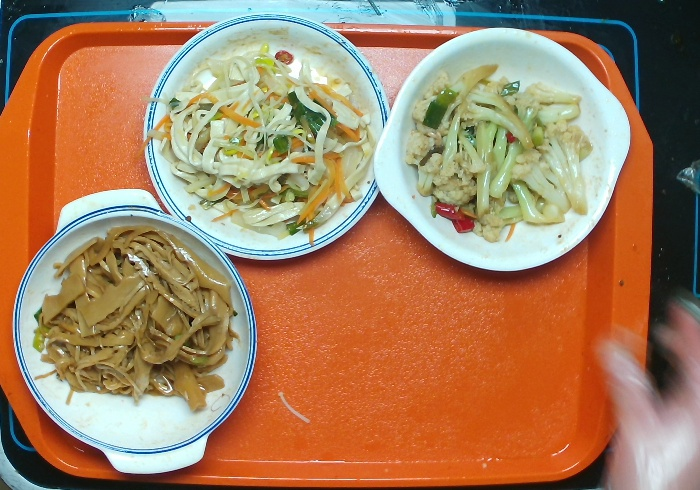HZYJPL-Dai_Er_Bai_Yuan_Wan: (371, 32, 627, 272)
HZYJPL-Lan_Bian_Dai_Er_Wan: (6, 181, 262, 490)
HZYJPL-Lan_Bian_Yuan_Die: (143, 17, 391, 270)
